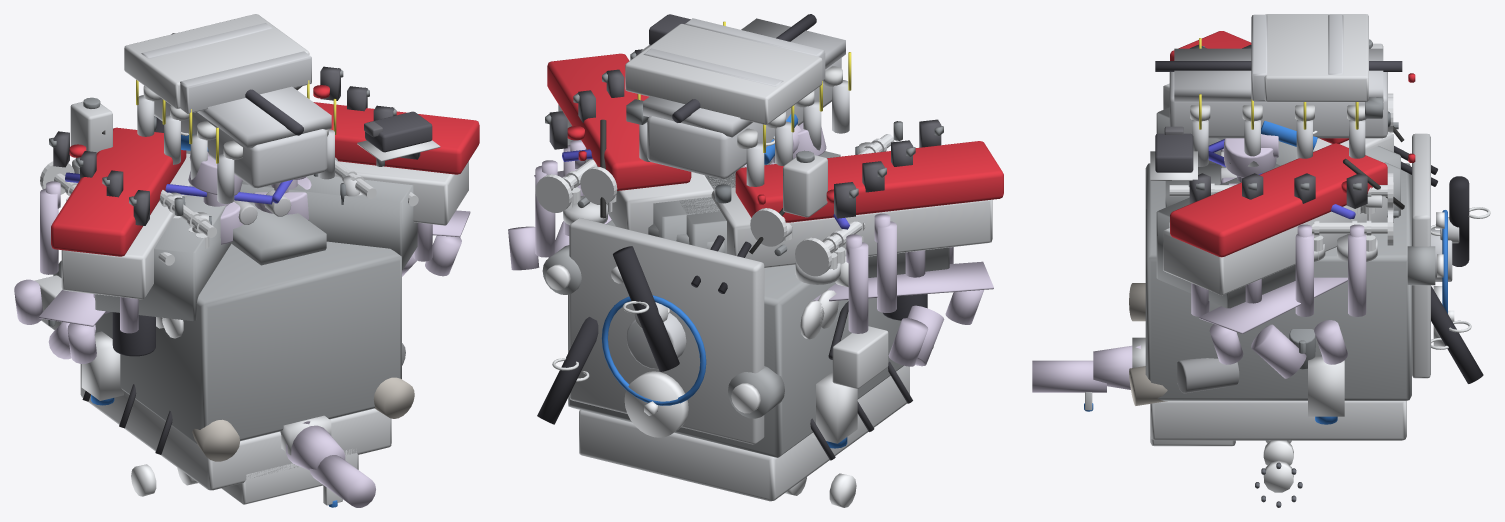
File: Engine_V8_TwinTurbo_Complete.glb
3 renders of one model, left to right at view 1: azimuth 30°, elevation 25°; view 2: azimuth 150°, elevation 25°; view 3: azimuth 270°, elevation 25°, orthographic. The views are drawn at different scales.
Parts seen in each view (by area): view 1: Engine_V8_Block, Engine_V8_IntakeManifold, Engine_V8_Intercooler, Engine_V8_ValveCover_L, Engine_V8_OilPan, Engine_V8_ValveCover_R, Engine_V8_ExhaustDownpipes, Engine_V8_ExhaustHeader_L, Engine_V8_CylinderHead_L, Engine_V8_WiringHarness, Engine_V8_CylinderHead_R, Engine_V8_Mounts (+8 smaller); view 2: Engine_V8_TimingCover_Accessories, Engine_V8_Block, Engine_V8_Intercooler, Engine_V8_ValveCover_L, Engine_V8_IntakeManifold, Engine_V8_OilPan, Engine_V8_ExhaustHeader_L, Engine_V8_ValveCover_R, Engine_V8_CylinderHead_L, Engine_V8_CoolantSystem, Engine_V8_Valvetrain, Engine_V8_DrySumpSystem (+8 smaller); view 3: Engine_V8_Block, Engine_V8_IntakeManifold, Engine_V8_ValveCover_R, Engine_V8_ExhaustHeader_R, Engine_V8_Intercooler, Engine_V8_OilPan, Engine_V8_CylinderHead_R, Engine_V8_TimingCover_Accessories, Engine_V8_ExhaustDownpipes, Engine_V8_CoolantSystem, Engine_V8_WiringHarness, Engine_V8_Mounts (+8 smaller).
Part boxes in pixels (x1=…): Engine_V8_Block: x1=95, y1=150, x2=417, y2=444; Engine_V8_IntakeManifold: x1=137, y1=85, x2=334, y2=203; Engine_V8_Intercooler: x1=124, y1=14, x2=311, y2=113; Engine_V8_ValveCover_L: x1=49, y1=127, x2=186, y2=256; Engine_V8_OilPan: x1=80, y1=364, x2=391, y2=504; Engine_V8_ValveCover_R: x1=313, y1=66, x2=479, y2=174; Engine_V8_ExhaustDownpipes: x1=192, y1=377, x2=414, y2=507; Engine_V8_ExhaustHeader_L: x1=14, y1=188, x2=138, y2=363; Engine_V8_CylinderHead_L: x1=46, y1=153, x2=208, y2=299; Engine_V8_WiringHarness: x1=136, y1=33, x2=440, y2=163; Engine_V8_CylinderHead_R: x1=335, y1=161, x2=468, y2=225; Engine_V8_Mounts: x1=81, y1=331, x2=331, y2=455; Engine_V8_TimingCover_Accessories: x1=542, y1=218, x2=784, y2=444; Engine_V8_Block: x1=568, y1=151, x2=949, y2=457; Engine_V8_Intercooler: x1=625, y1=18, x2=825, y2=124; Engine_V8_ValveCover_L: x1=735, y1=119, x2=1003, y2=222; Engine_V8_IntakeManifold: x1=626, y1=18, x2=849, y2=186; Engine_V8_OilPan: x1=579, y1=365, x2=909, y2=501; Engine_V8_ExhaustHeader_L: x1=812, y1=221, x2=993, y2=366; Engine_V8_ValveCover_R: x1=545, y1=49, x2=691, y2=190; Engine_V8_CylinderHead_L: x1=711, y1=142, x2=992, y2=284; Engine_V8_CoolantSystem: x1=537, y1=150, x2=827, y2=424; Engine_V8_Valvetrain: x1=535, y1=134, x2=894, y2=276; Engine_V8_DrySumpSystem: x1=810, y1=294, x2=927, y2=460; Engine_V8_Block: x1=1145, y1=107, x2=1411, y2=400; Engine_V8_IntakeManifold: x1=1169, y1=48, x2=1387, y2=166; Engine_V8_ValveCover_R: x1=1170, y1=143, x2=1387, y2=257; Engine_V8_ExhaustHeader_R: x1=1191, y1=234, x2=1366, y2=378; Engine_V8_Intercooler: x1=1251, y1=14, x2=1368, y2=101; Engine_V8_OilPan: x1=1150, y1=401, x2=1406, y2=446; Engine_V8_CylinderHead_R: x1=1163, y1=182, x2=1398, y2=295; Engine_V8_TimingCover_Accessories: x1=1407, y1=133, x2=1459, y2=378; Engine_V8_ExhaustDownpipes: x1=1032, y1=283, x2=1167, y2=411; Engine_V8_CoolantSystem: x1=1369, y1=39, x2=1490, y2=383; Engine_V8_WiringHarness: x1=1150, y1=38, x2=1402, y2=180; Engine_V8_Mounts: x1=1132, y1=337, x2=1344, y2=424.
Size of the model in its own units: 1.03 by 0.9525 by 0.9649.
